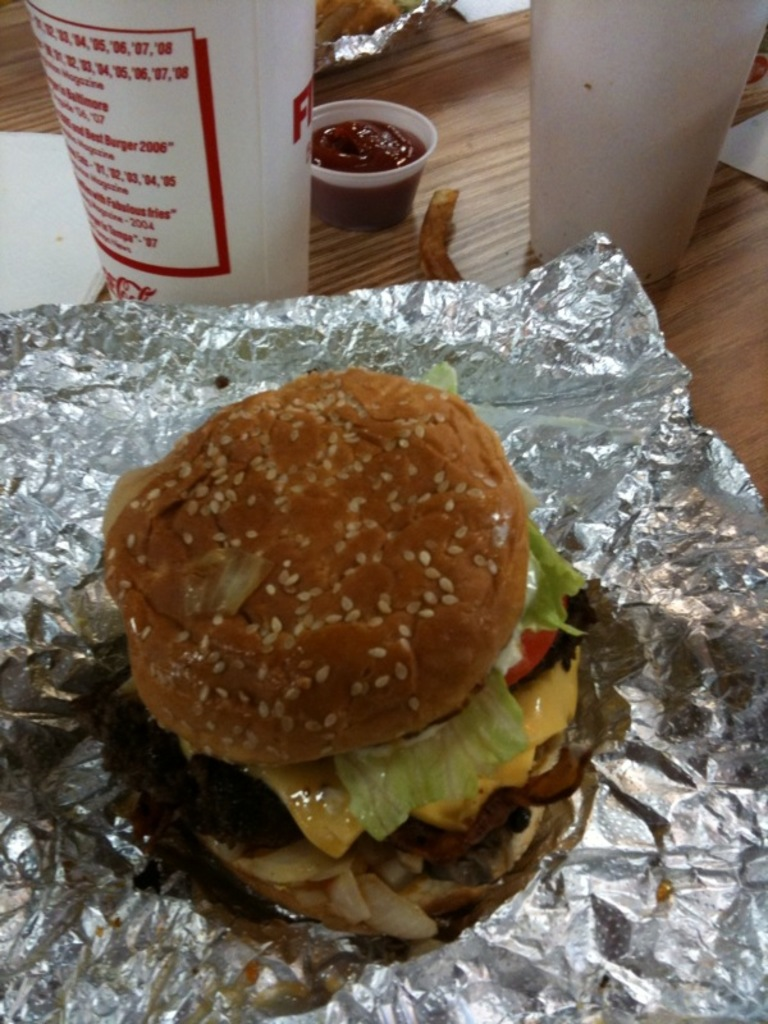Hamburger: (92, 368, 579, 939)
